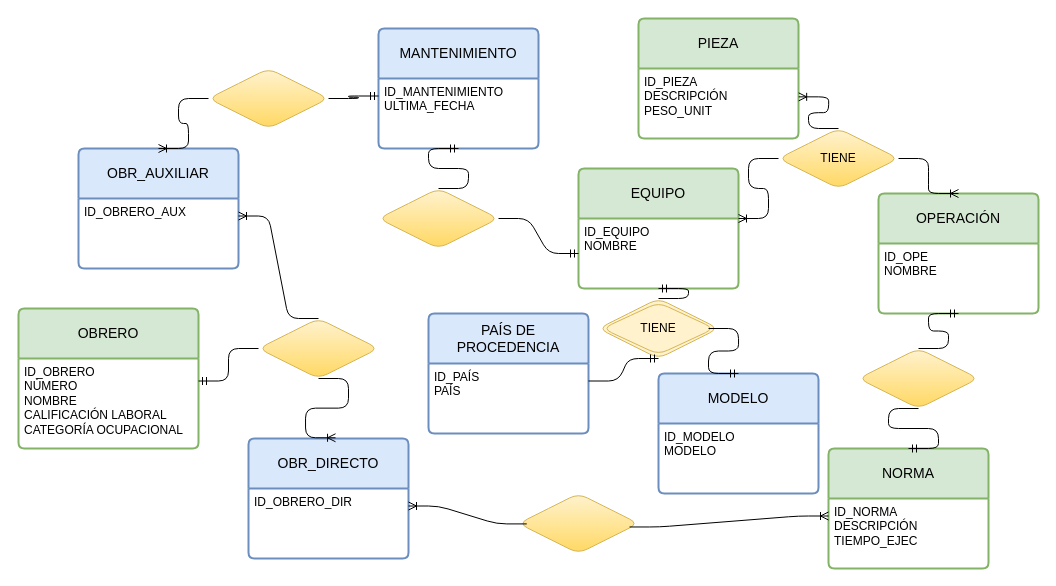
This 1056x586 diagram has some shape labels left out. Each missing label, with the centre of its shape:
APLICA: (x=578, y=523)
ASOCIA: (x=318, y=348)
CONSTITUYE: (x=918, y=378)
REALIZA: (x=268, y=98)
RECIBE: (x=438, y=218)
